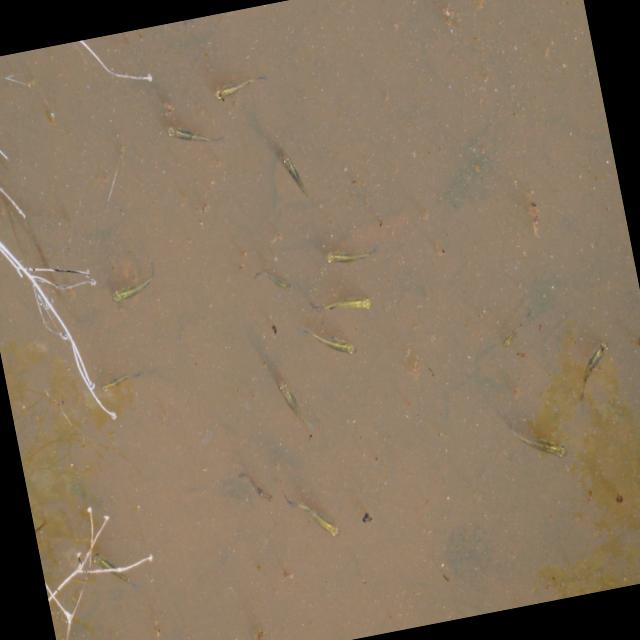Sivrisinek Baligi: (506, 406, 572, 474), (282, 484, 344, 550), (272, 370, 322, 446), (298, 316, 361, 370), (107, 259, 164, 315), (571, 341, 621, 403), (308, 286, 381, 328), (166, 113, 227, 163), (210, 66, 275, 110), (274, 146, 316, 210), (320, 239, 383, 275), (97, 364, 147, 400)
